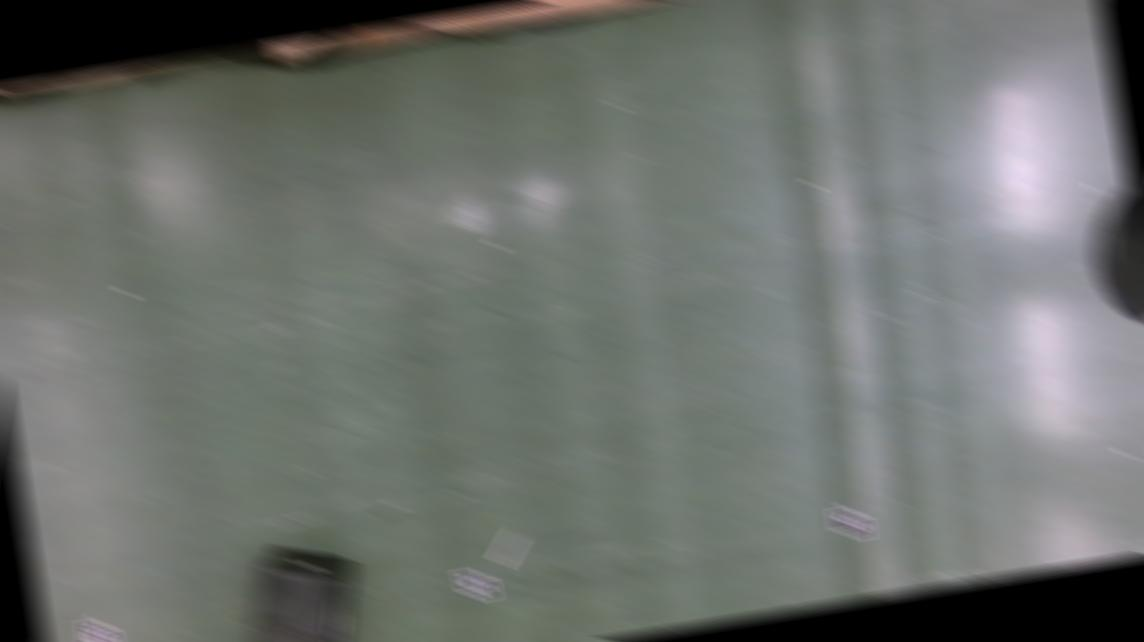probes: (491, 528, 527, 564)
rako: (228, 533, 373, 642)
